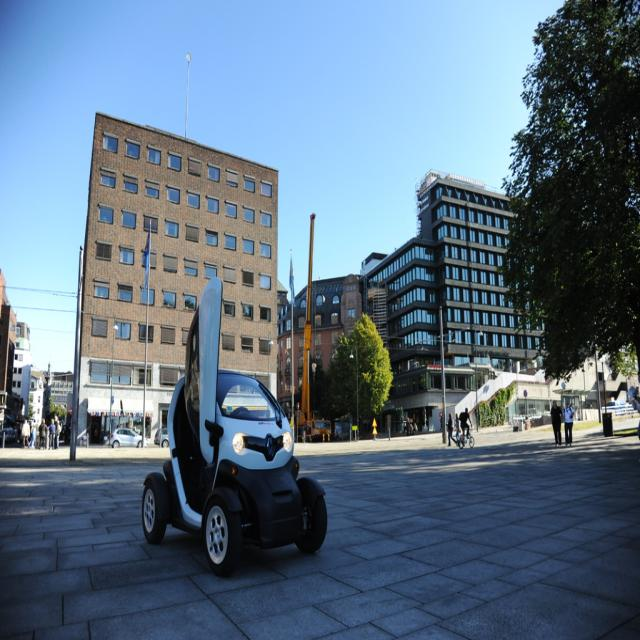car: (141, 276, 328, 577), (107, 422, 146, 446)
